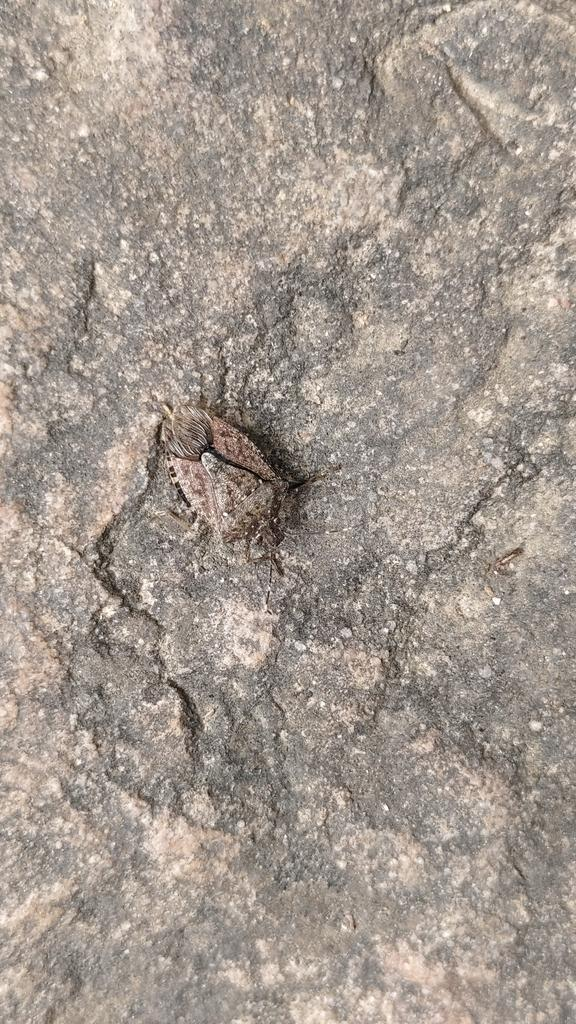stink_bugs: (127, 364, 355, 607)
